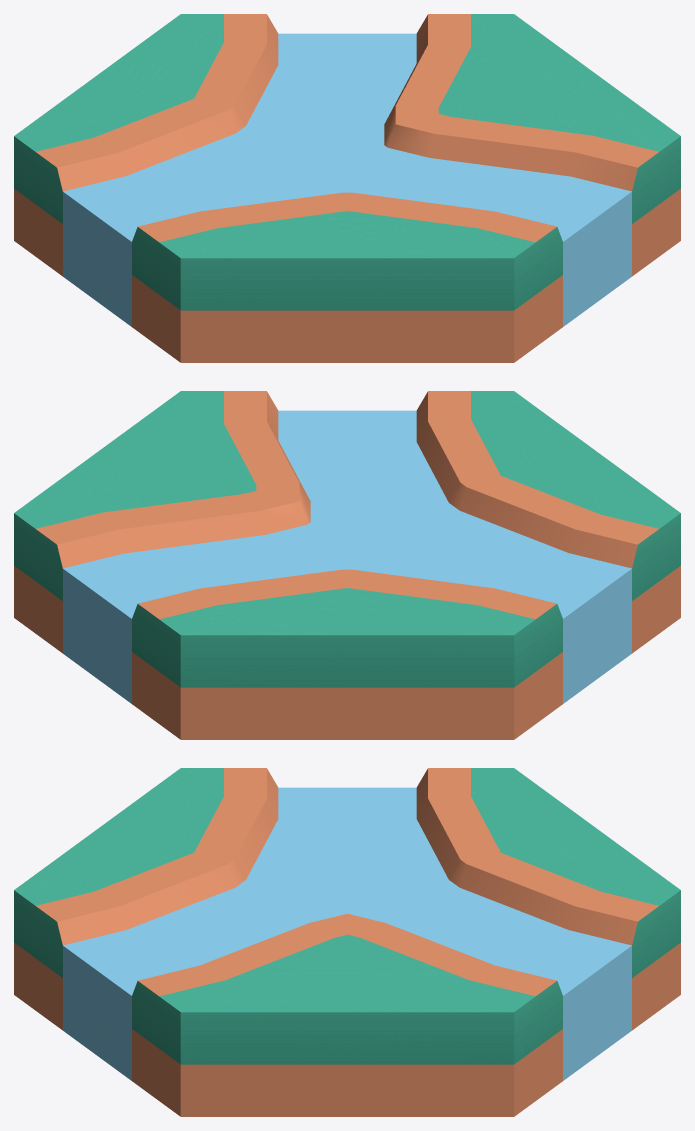
The model's file is river-intersectionF.glb.
3 renders of one model, top to bottom at view 1: azimuth 30°, elevation 25°; view 2: azimuth 150°, elevation 25°; view 3: azimuth 270°, elevation 25°, orthographic.
Visible parts, largest first — view 1: river-intersectionF; view 2: river-intersectionF; view 3: river-intersectionF.
Part boxes in pixels (x1,y1,x2,y2): river-intersectionF: (14,14,680,362); river-intersectionF: (14,391,680,739); river-intersectionF: (14,768,680,1116).
Bounding box in the file's own units: 10 × 2 × 11.55.
Materials: 1 (1 with a texture image).
